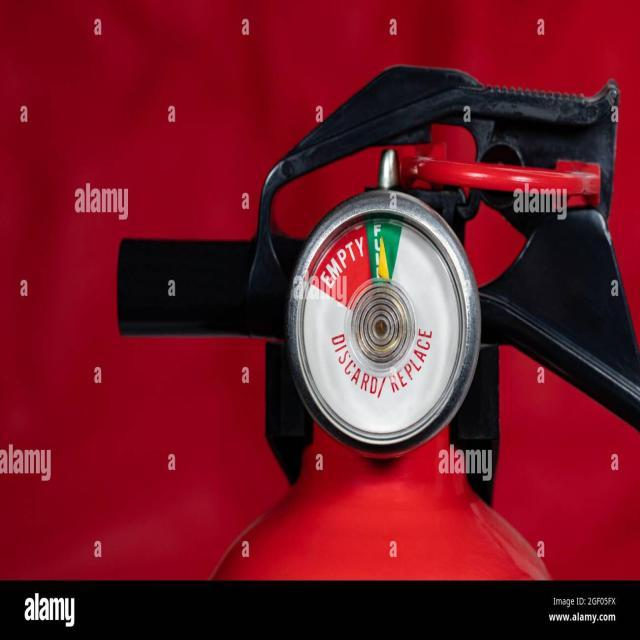pressure gauge: (288, 190, 478, 455)
